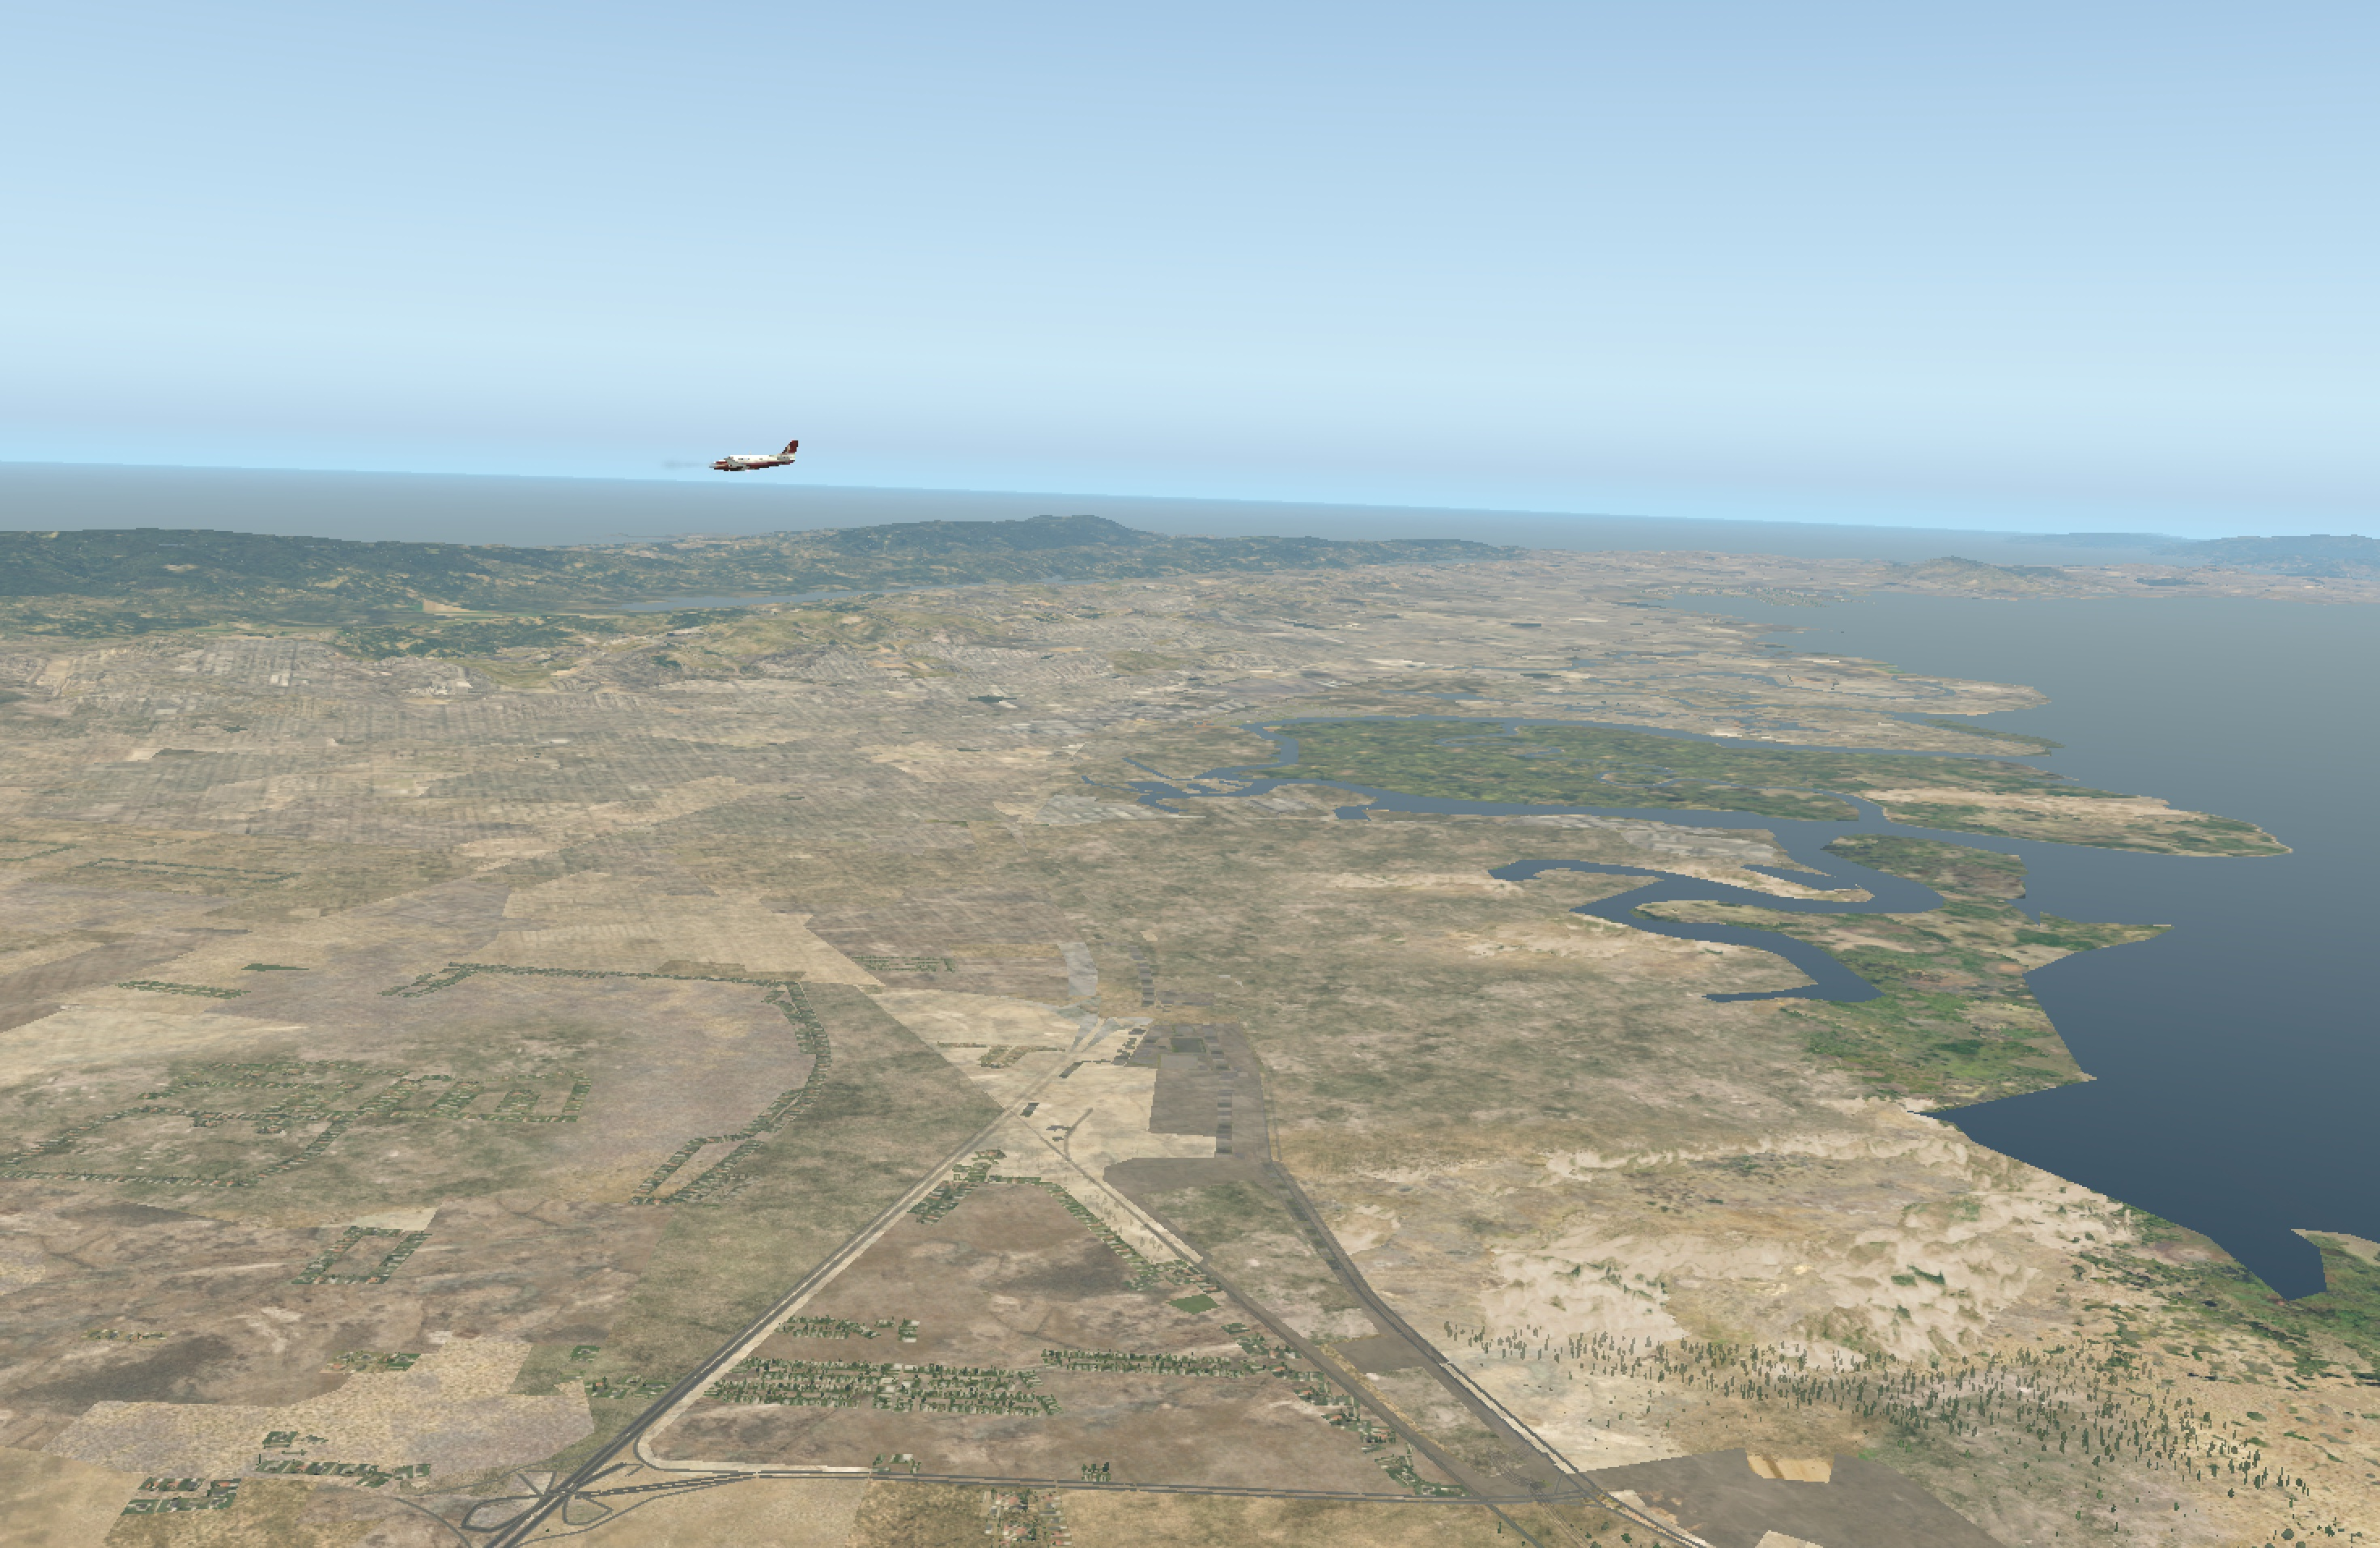aircraft: (673, 444, 801, 493)
